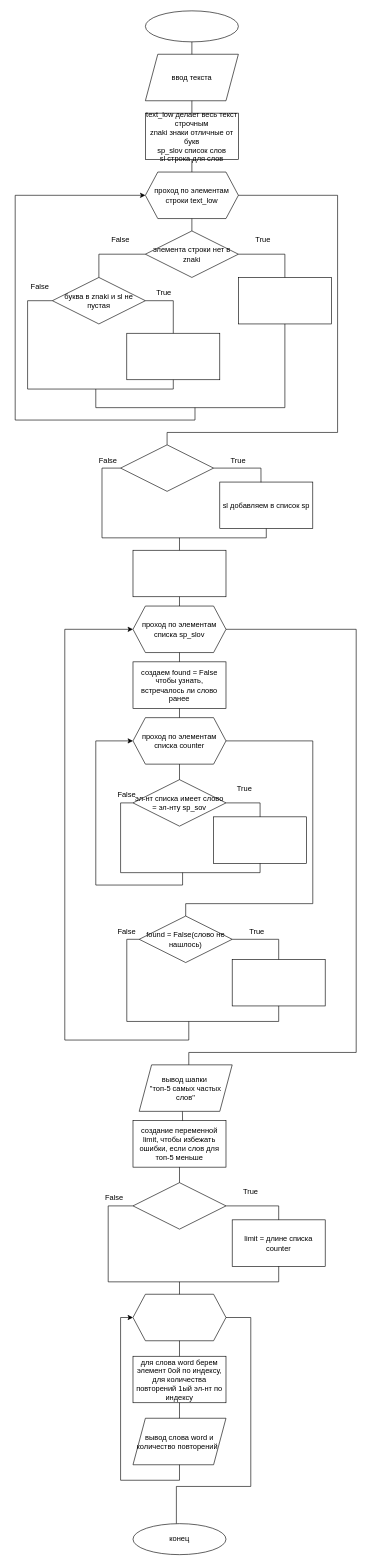
Some shapes in this 368 by 1566 pixel diagram are drawn without their labels. The centre of each missing label's shape, as x and y in pixels:
в counter добавляем слово и его количество(т.е. 1): the point at 278,982
в список sp добавл. sl и обнуляем sl для новых слов: the point at 173,356
длина списка counter < limit: the point at 179,1205
к строке sl прибавляем по порядку буквы: the point at 284,300
начало: the point at 191,26
пишем +1 к счетсчику, меняем флаг found = True и делаем break: the point at 260,839
повторение цикла limit раз: the point at 179,1317
создаем список counter для счета слов: the point at 179,573
строка sl не пустая: the point at 167,467
